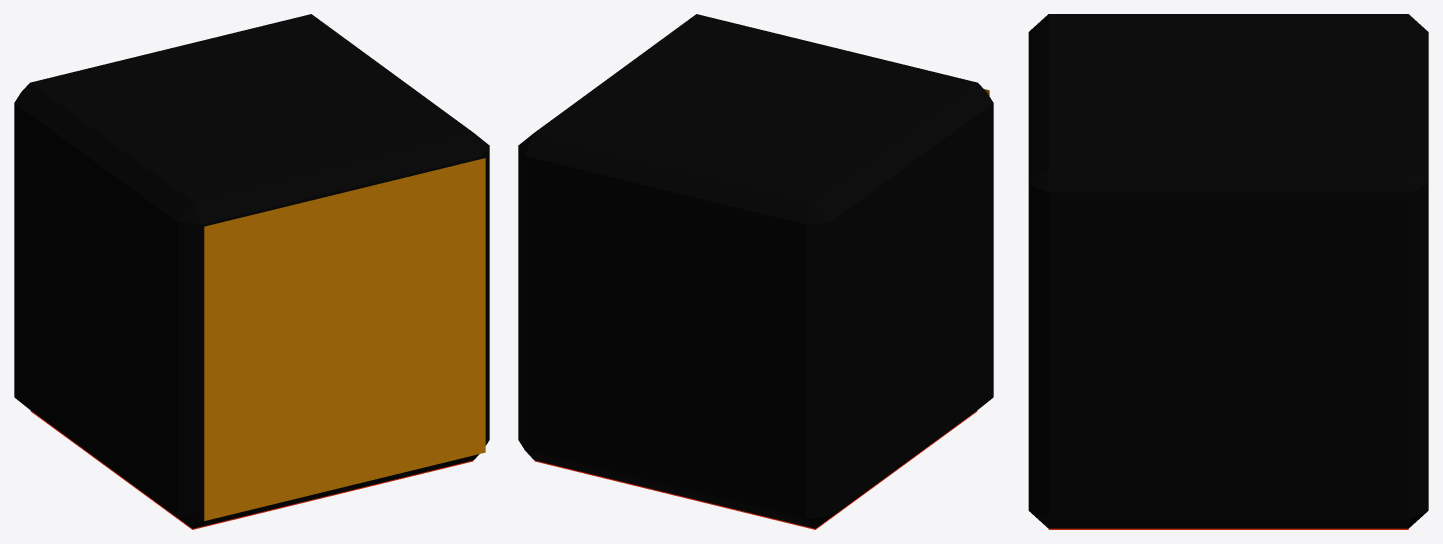
Rendered from rubic24.obj.
3 views of the same model, side by side, from view 1: azimuth 30°, elevation 25°; view 2: azimuth 150°, elevation 25°; view 3: azimuth 270°, elevation 25° (orthographic). The views are drawn at different scales.
Parts seen in each view (by area): view 1: Cube.021_Cube.025; view 2: Cube.021_Cube.025; view 3: Cube.021_Cube.025.
Boxes of the visible parts, box(x1,y1,x2,y2) form: Cube.021_Cube.025: box(14, 14, 489, 529); Cube.021_Cube.025: box(518, 14, 993, 529); Cube.021_Cube.025: box(1028, 14, 1428, 529).
Bounding box in the file's own units: 2 × 2.01 × 2.03.
